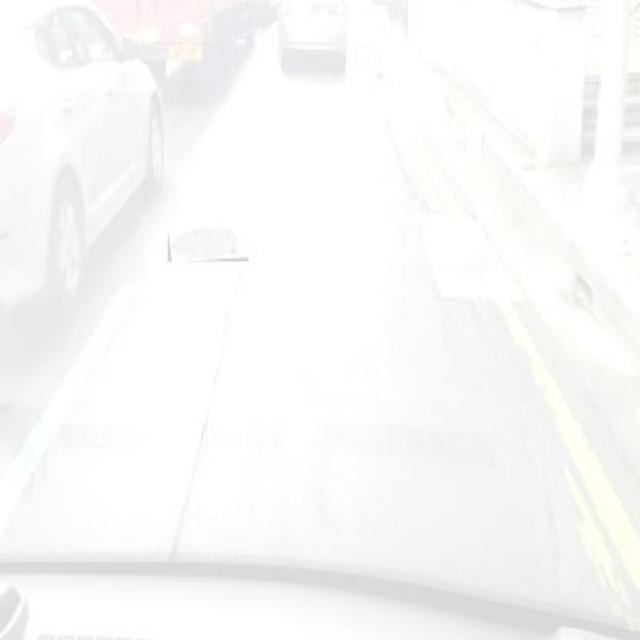Manhole: (168, 228, 248, 262)
